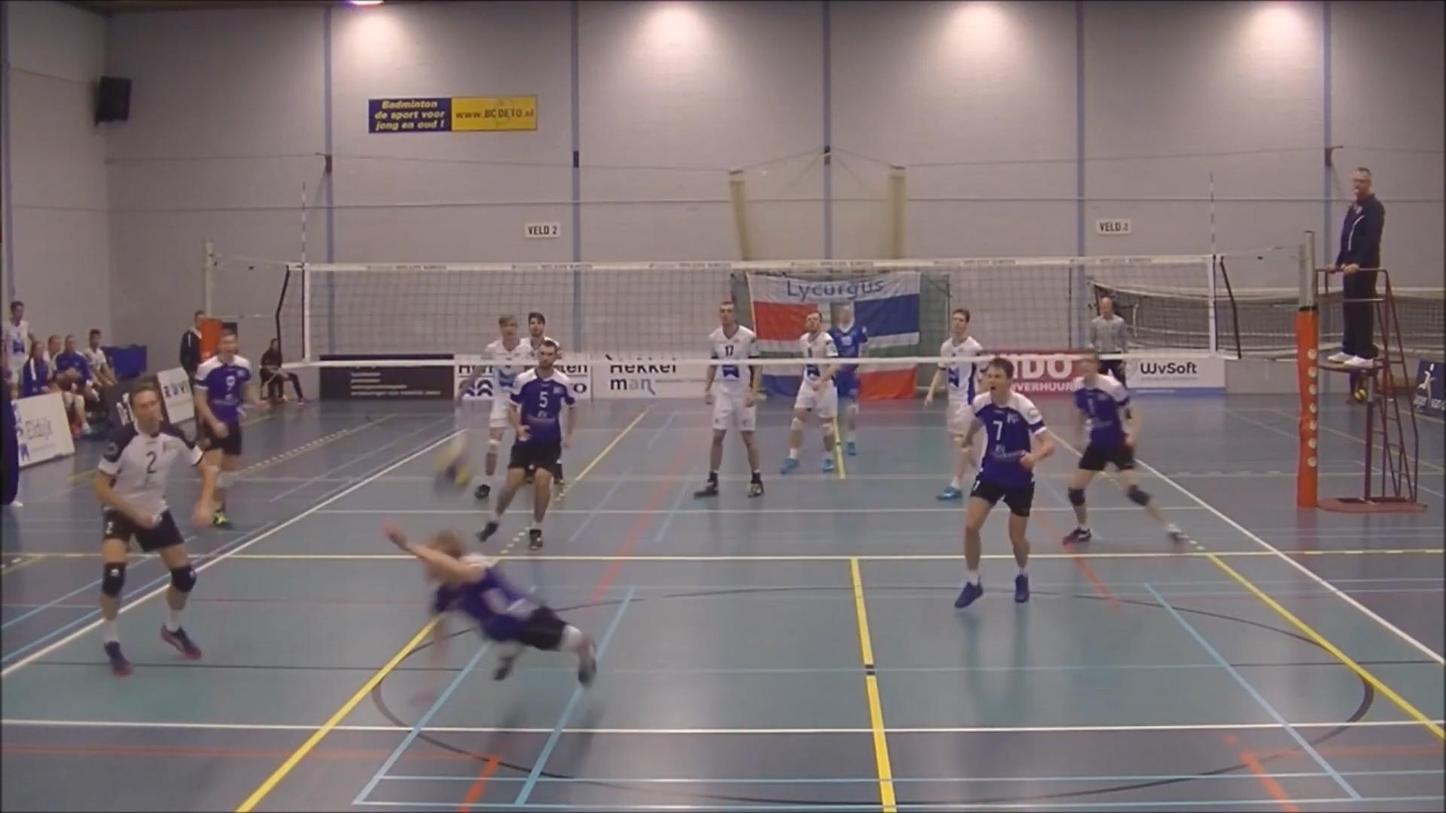difesa: (372, 517, 610, 699)
